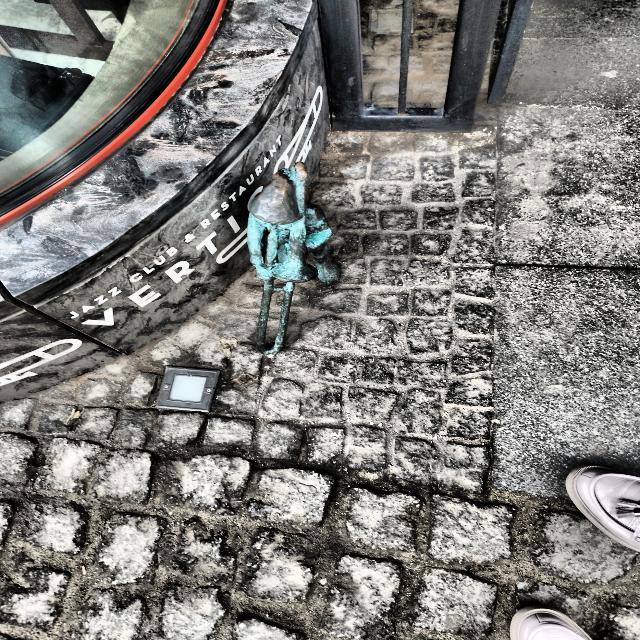Vertigus: (247, 161, 340, 354)
